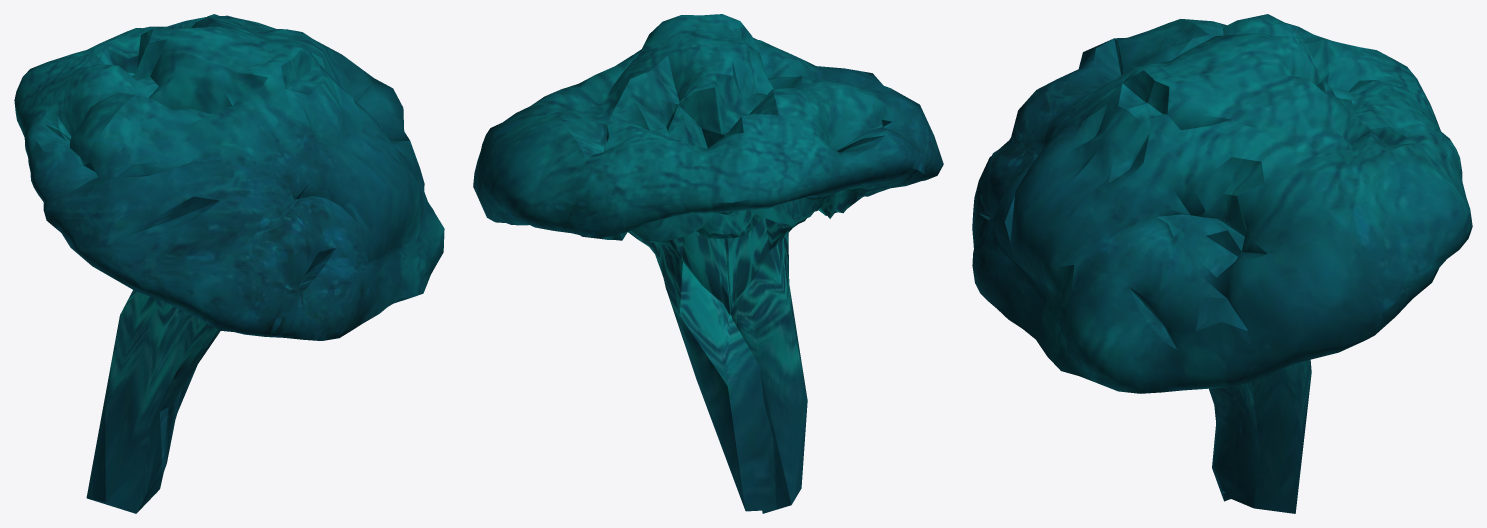
The model's file is magical_mushroom_blue.glb.
The picture shows the model from 3 angles, left to right: view 1: azimuth 30°, elevation 25°; view 2: azimuth 150°, elevation 25°; view 3: azimuth 270°, elevation 25°; orthographic projection. The views are drawn at different scales.
Parts seen in each view (by area): view 1: Object_2; view 2: Object_2; view 3: Object_2.
Boxes of the visible parts, <box> form: Object_2: <box>14,14,444,513</box>; Object_2: <box>473,14,943,513</box>; Object_2: <box>972,14,1472,513</box>.
Size of the model in its own units: 199 by 216 by 195.
1 material, 1 textured.
